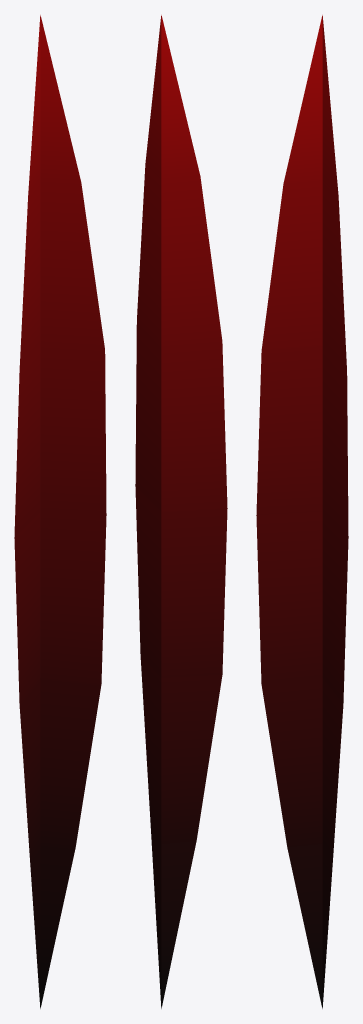
File: Grass - Copia.fbx
The picture shows the model from 3 angles, left to right: view 1: azimuth 30°, elevation 25°; view 2: azimuth 150°, elevation 25°; view 3: azimuth 330°, elevation 25°; orthographic projection.
Visible parts, largest first — view 1: Plane.001; view 2: Plane.001; view 3: Plane.001.
Boxes of the visible parts, x1,y1,x2,y2 form: Plane.001: (14,15,106,1008); Plane.001: (135,15,227,1008); Plane.001: (256,15,348,1008).
Size of the model in its own units: 11.6 by 120 by 4.4.
